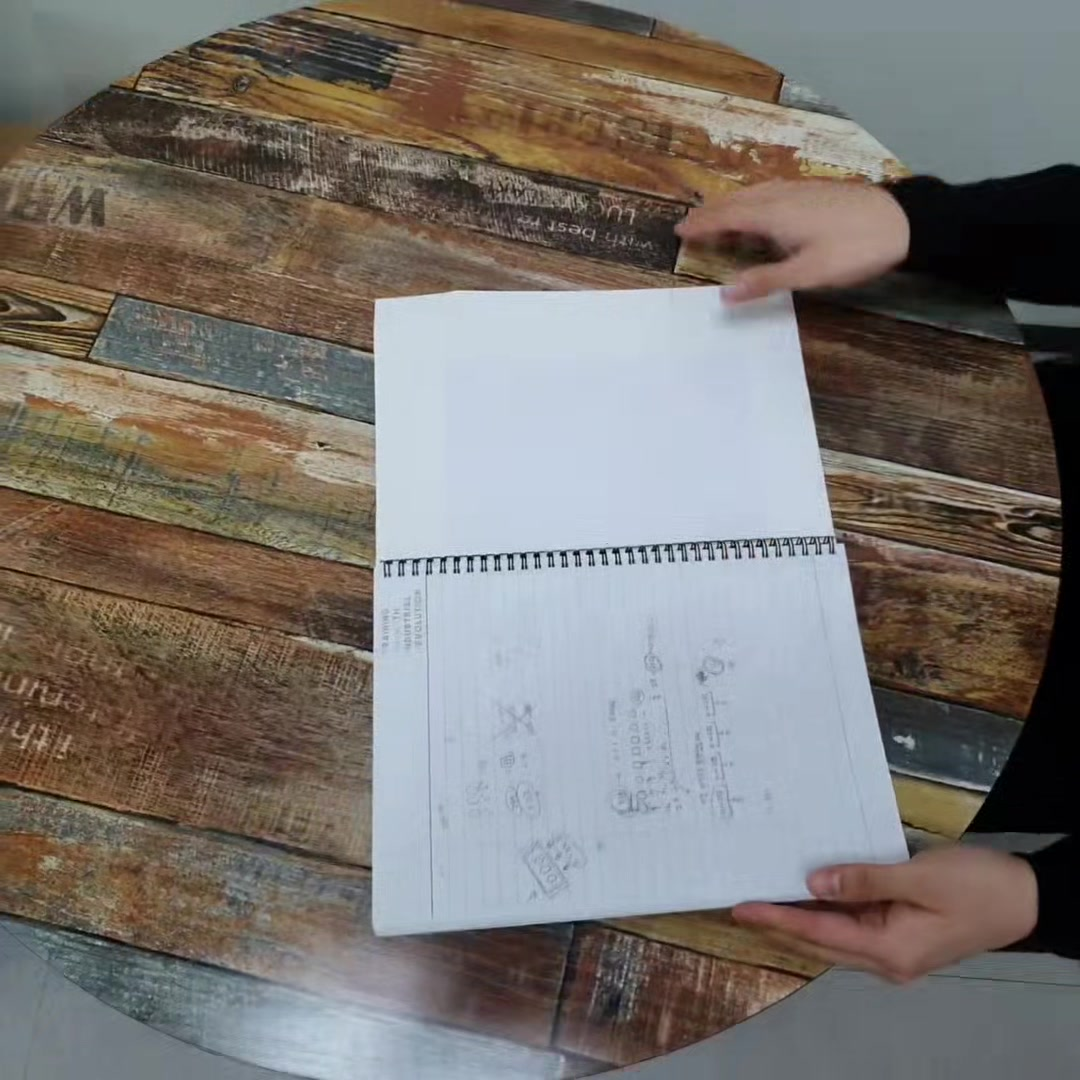book: (357, 286, 927, 911)
